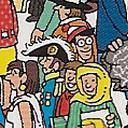waldo: (59, 23, 96, 63)
